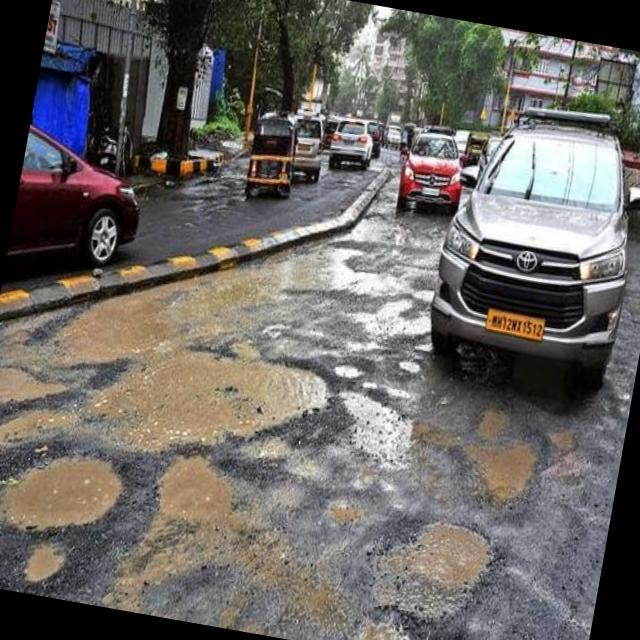Pothole: (34, 162, 390, 502), (121, 440, 266, 560), (386, 498, 514, 616), (0, 442, 136, 542), (0, 346, 115, 444), (450, 427, 558, 516), (0, 398, 87, 482), (307, 479, 378, 535), (324, 354, 368, 386), (397, 349, 433, 386)
